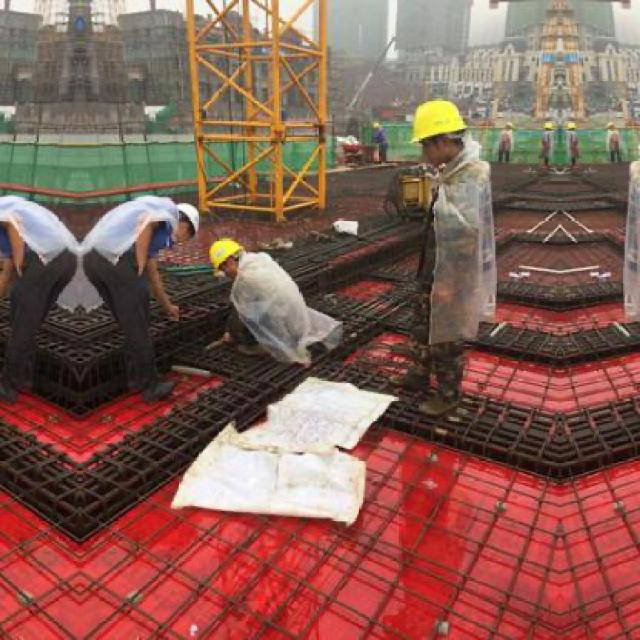helmet: (406, 92, 472, 168), (162, 197, 206, 248), (208, 236, 246, 278)
